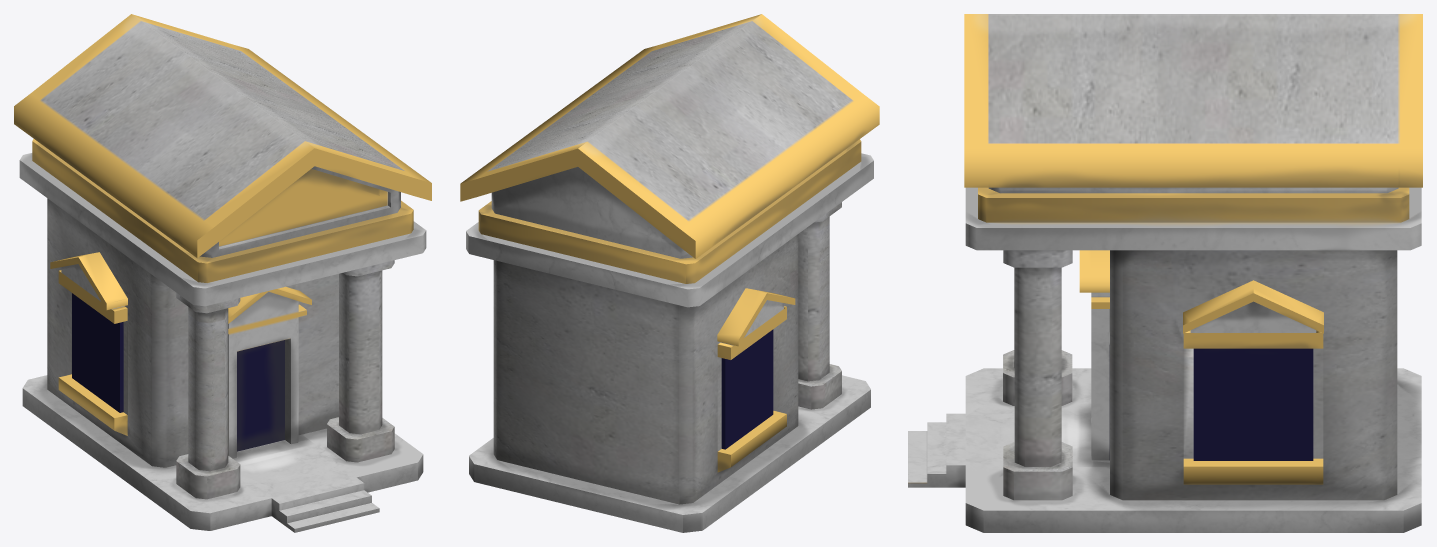
The model's file is Bank.fbx.
3 renders of one model, left to right at view 1: azimuth 30°, elevation 25°; view 2: azimuth 150°, elevation 25°; view 3: azimuth 270°, elevation 25°, orthographic. The views are drawn at different scales.
Parts seen in each view (by area): view 1: Low Poly Bank; view 2: Low Poly Bank; view 3: Low Poly Bank.
Boxes of the visible parts, x1=… form: Low Poly Bank: x1=14, y1=14, x2=431, y2=532; Low Poly Bank: x1=460, y1=14, x2=879, y2=532; Low Poly Bank: x1=908, y1=14, x2=1422, y2=532.
Bounding box in the file's own units: 90.53 × 128 × 134.
